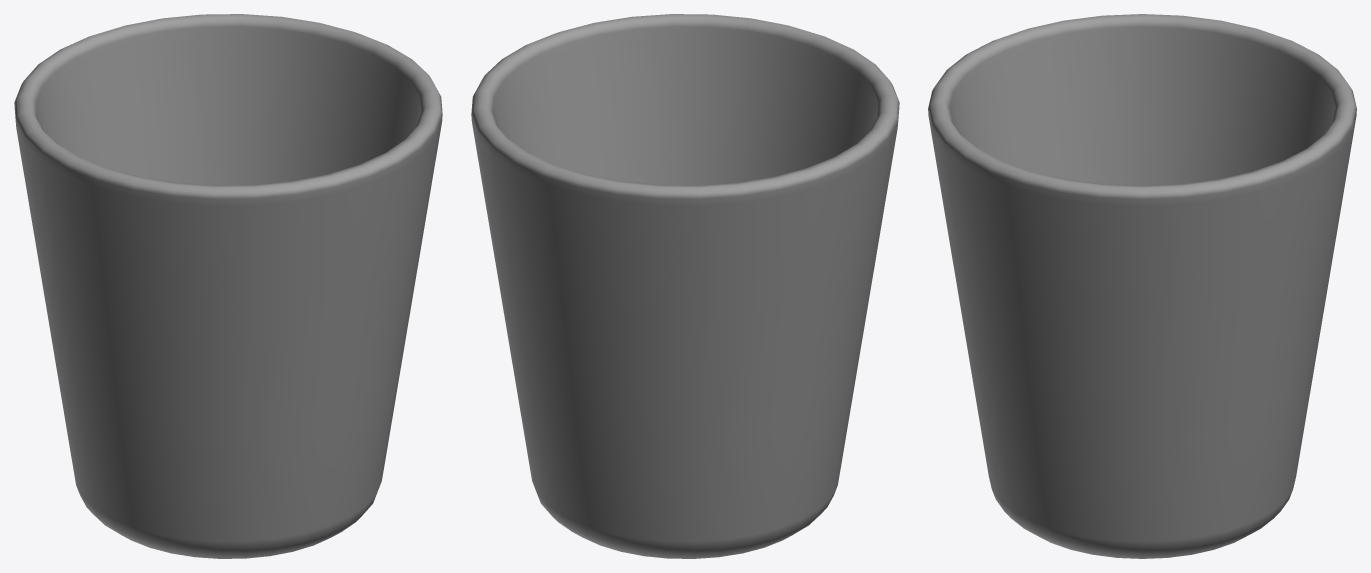
Rendered from Tumbler_01.glb.
3 renders of one model, left to right at view 1: azimuth 30°, elevation 25°; view 2: azimuth 150°, elevation 25°; view 3: azimuth 270°, elevation 25°, orthographic.
Parts seen in each view (by area): view 1: Tumbler_01; view 2: Tumbler_01; view 3: Tumbler_01.
Boxes of the visible parts, left/top/right/bottom form: Tumbler_01: left=14, top=14, right=442, bottom=558; Tumbler_01: left=471, top=14, right=899, bottom=558; Tumbler_01: left=928, top=14, right=1356, bottom=558.
Bounding box in the file's own units: 0.0763 × 0.0807 × 0.0763.
Materials: 1 (1 with a texture image).
